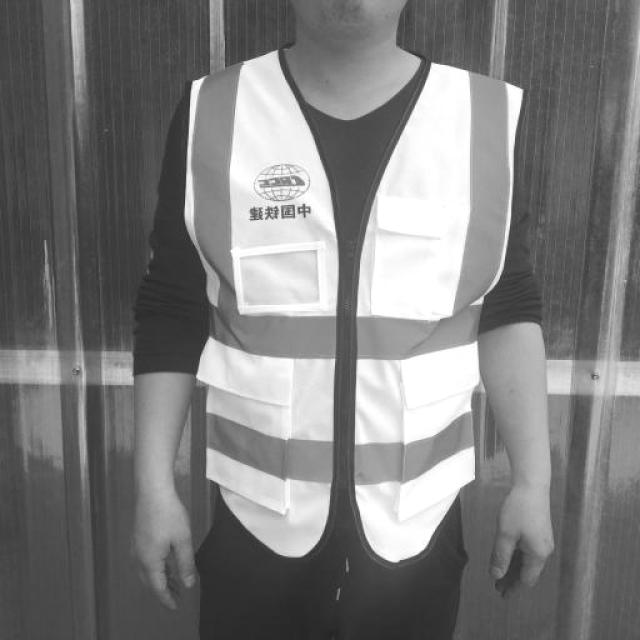hand_noglove: (115, 492, 204, 614), (486, 484, 564, 604)
vest: (180, 47, 531, 565)
